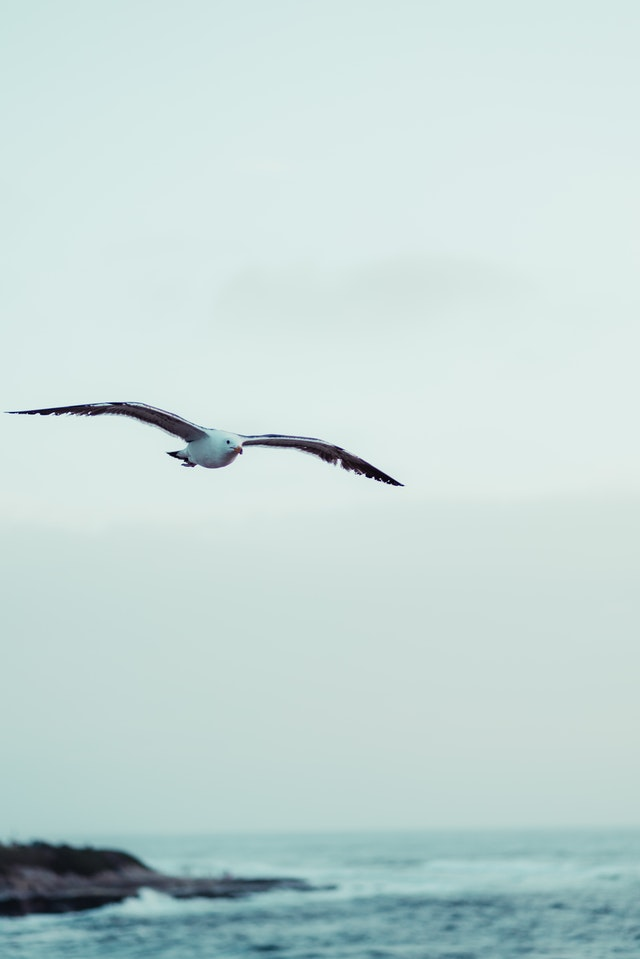bird: (8, 402, 403, 490)
